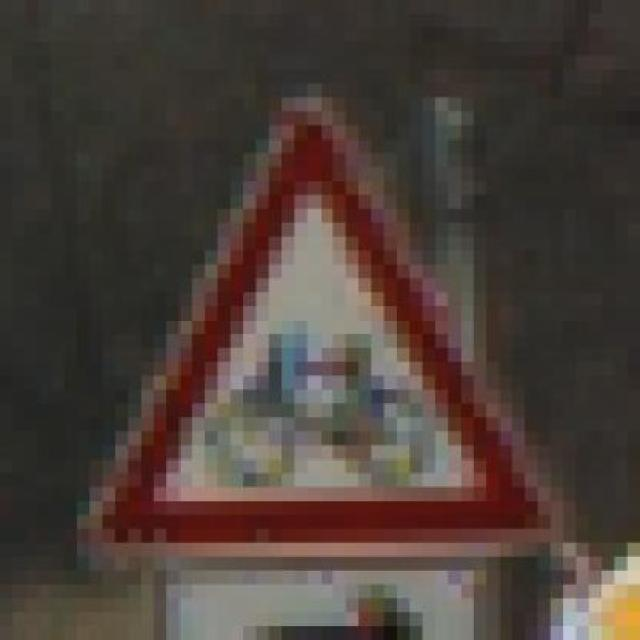CYCLE ROUTE AHEAD WARNING: (67, 86, 553, 560)
